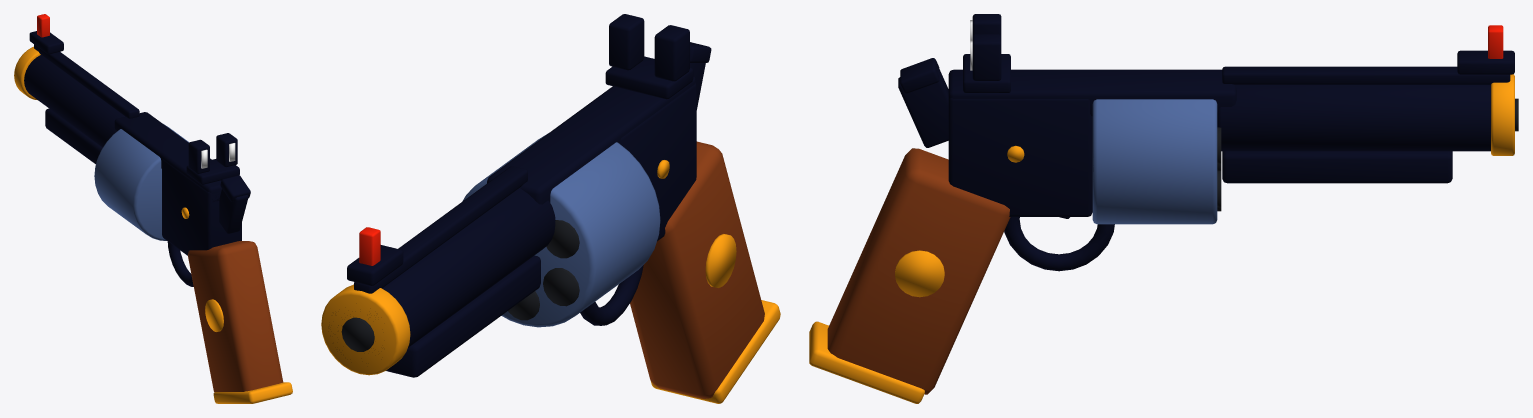
Rendered from Python_Revolver.fbx.
The picture shows the model from 3 angles, left to right: view 1: azimuth 30°, elevation 25°; view 2: azimuth 150°, elevation 25°; view 3: azimuth 270°, elevation 25°; orthographic projection. The views are drawn at different scales.
Parts seen in each view (by area): view 1: Python_Revolver; view 2: Python_Revolver; view 3: Python_Revolver.
Boxes of the visible parts, bbox=[...] form: Python_Revolver: bbox=[14, 14, 292, 403]; Python_Revolver: bbox=[321, 14, 780, 403]; Python_Revolver: bbox=[809, 14, 1518, 403].
Size of the model in its own units: 156 by 416 by 739.
